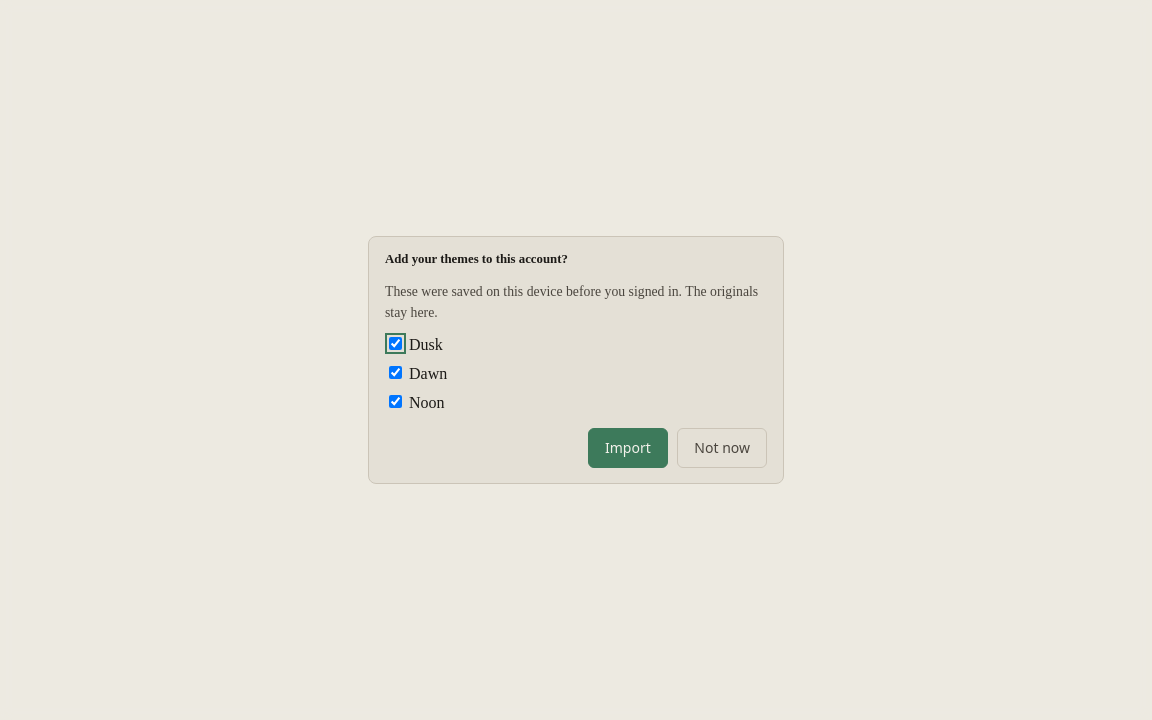
Test: offering guest themes to an account › marks the succeeded and unticked themes as asked about even when one save fails, and offers only the failed one again
The image size is (1152, 720).
Expected: the dialog "Add your themes to this account?" is shown, [368,236,784,484]
Click the checkbox labelled "Noon" at point(396, 401), box [389,395,402,408]
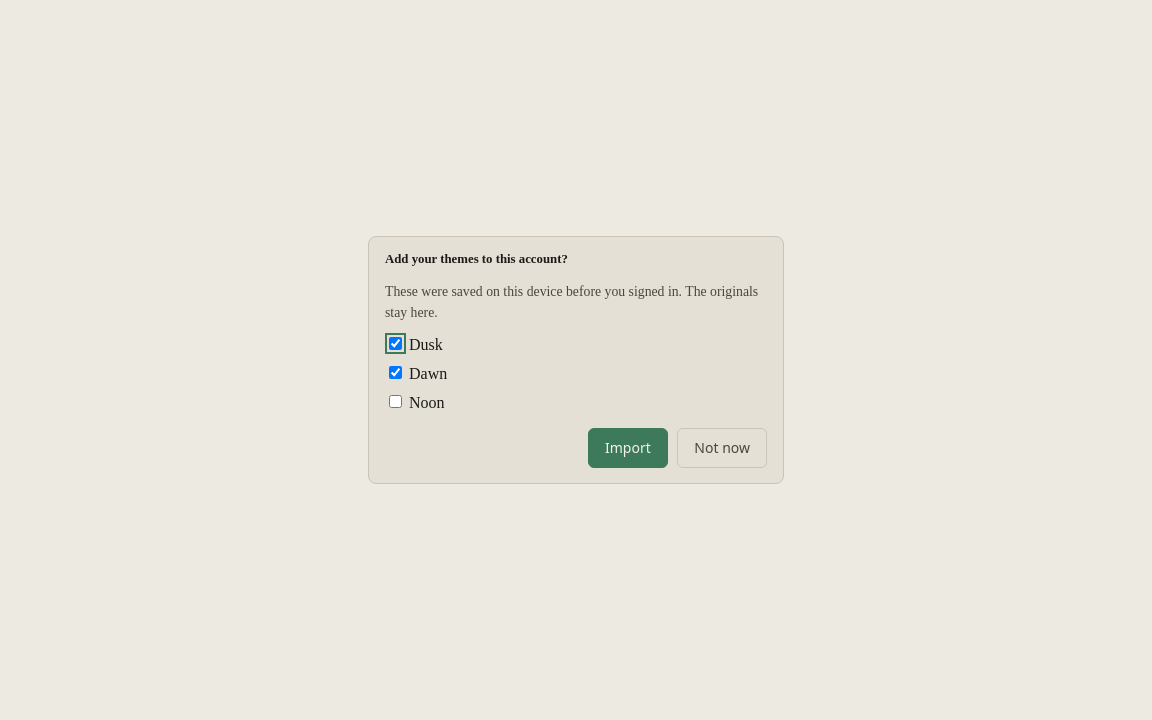
Click the button "Import" at point(628, 448), box [588,428,668,468]
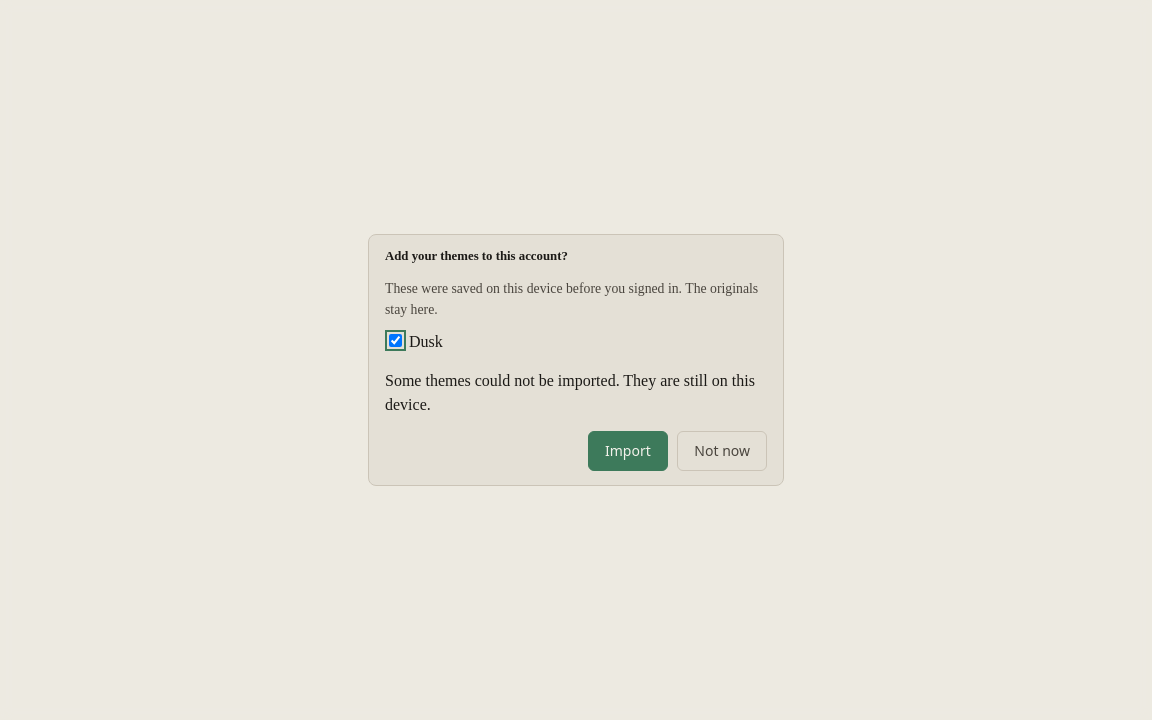
Now the message "Some themes could not be imported. They are still on this device." is shown, box [385,369,767,418]
Now the message reads "Some themes could not be imported. They are still on this device.", box [385,372,755,413]
